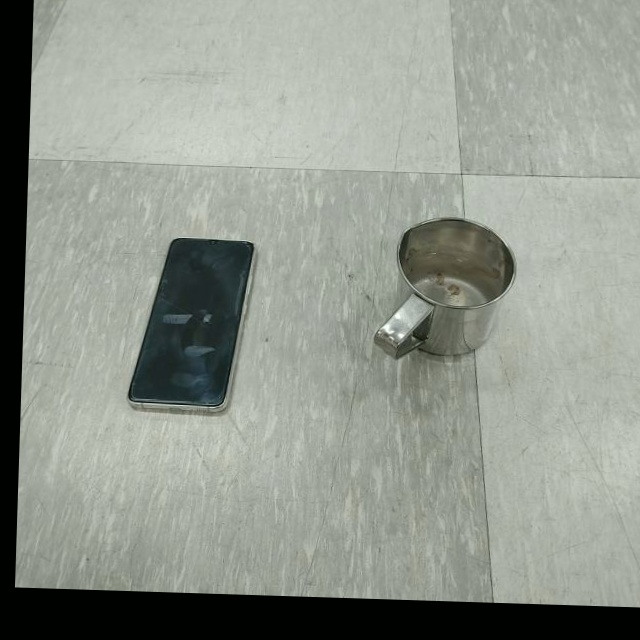cup: (372, 212, 520, 372)
phone: (125, 232, 256, 418)
